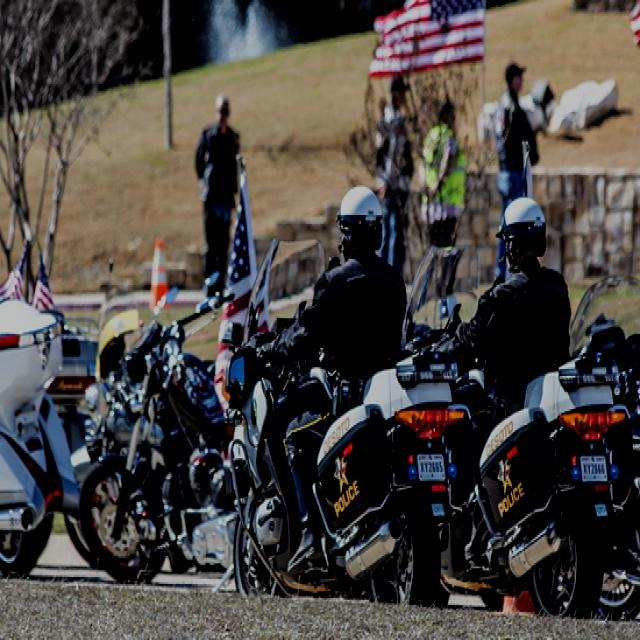Vehicle: (400, 242, 634, 624), (226, 333, 474, 607), (82, 323, 232, 593), (0, 297, 80, 573), (600, 288, 640, 620), (572, 273, 640, 423)
